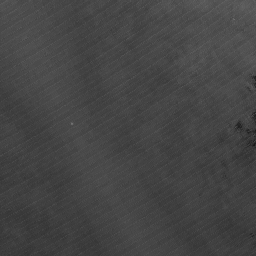Target: (68, 120, 75, 127)
